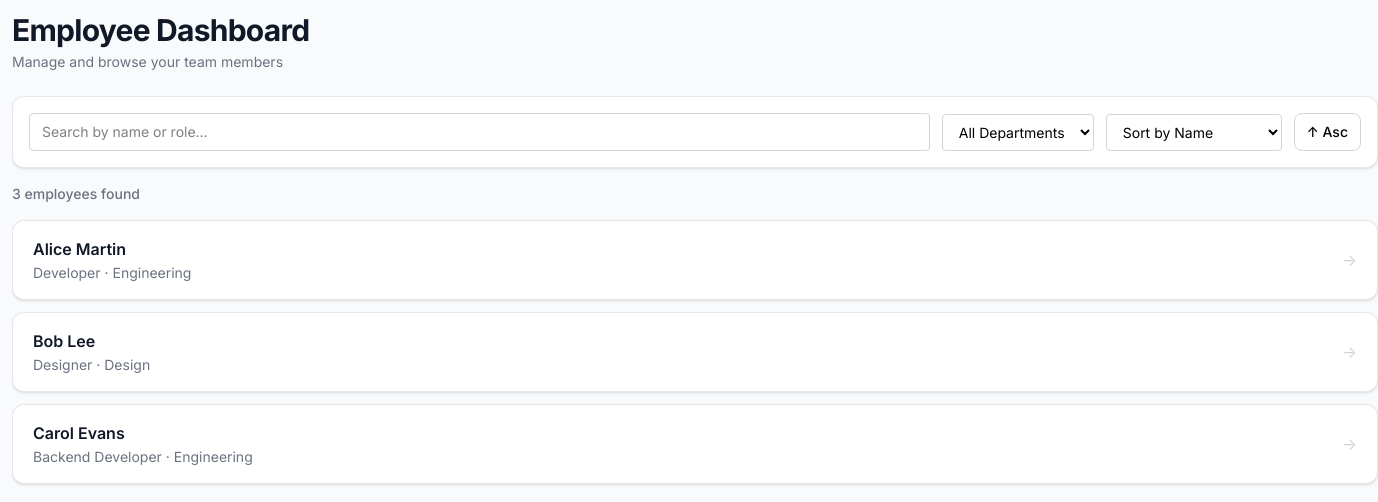
Test: EmployeesPage › filters the list when the user types in the search box
Type "alice" into the field with placeholder "Search by name or role…" at (479,132), box [29,113,930,151]
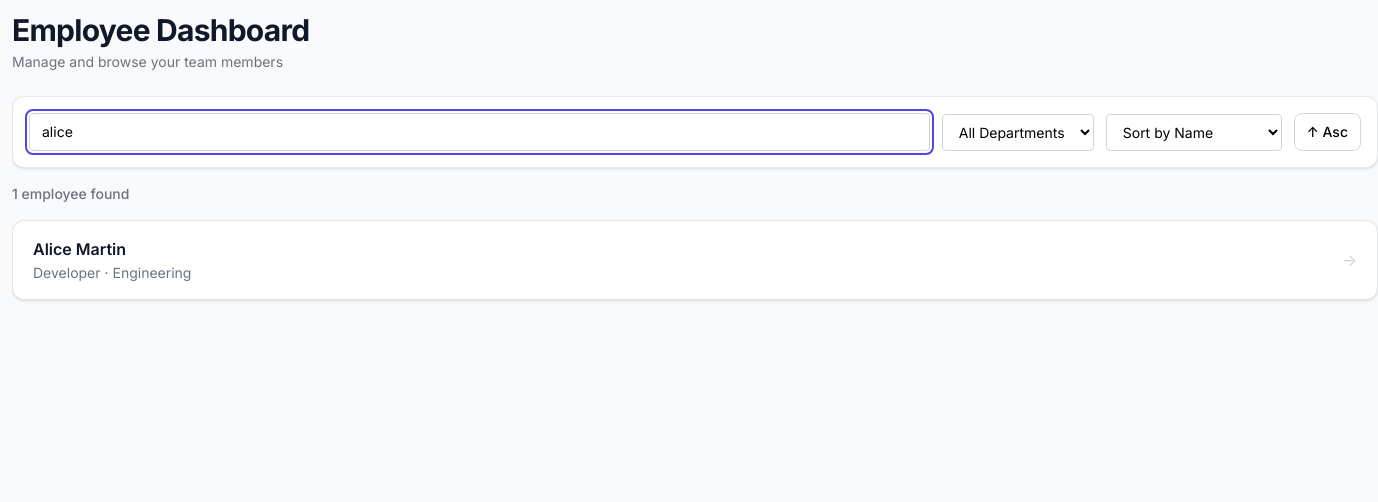
Expected: the link "Alice Martin Developer · Engineering →" is shown, [12,220,1377,300]
Expected: the text "1 employee found" is shown, [12,184,129,204]
Expected: the link "Bob Lee" is gone
